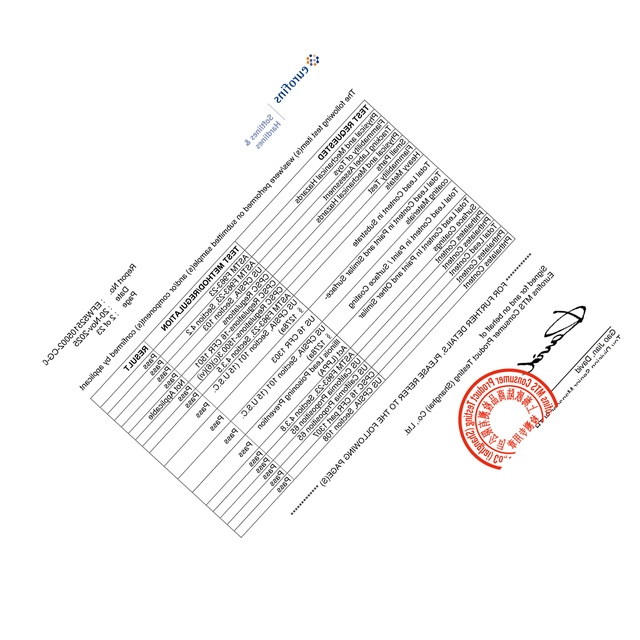eurofins: (269, 52, 329, 110)
